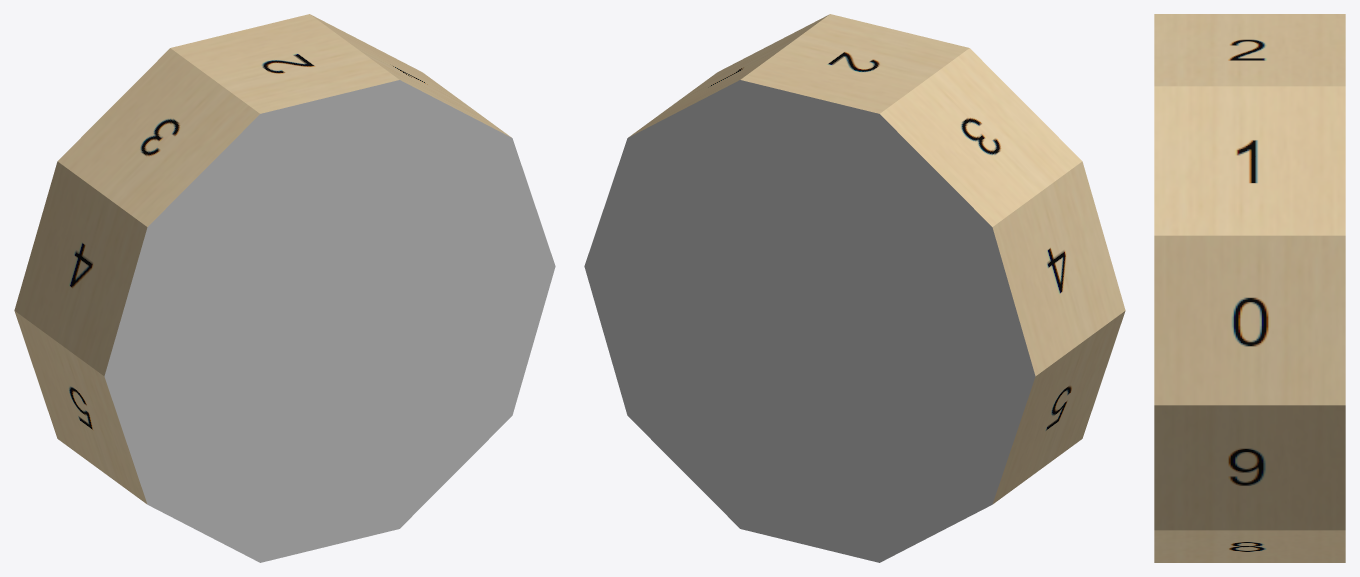
File: PadlockWheelNumbered.fbx
3 renders of one model, left to right at view 1: azimuth 30°, elevation 25°; view 2: azimuth 150°, elevation 25°; view 3: azimuth 270°, elevation 25°, orthographic. The views are drawn at different scales.
Visible parts, largest first — view 1: NumberWheel1; view 2: NumberWheel1; view 3: NumberWheel1.
Part boxes in pixels (x1,y1,x2,y2): NumberWheel1: [14, 14, 555, 562]; NumberWheel1: [584, 14, 1125, 562]; NumberWheel1: [1154, 14, 1345, 562].
Size of the model in its own units: 16.52 by 15.72 by 5.71.
